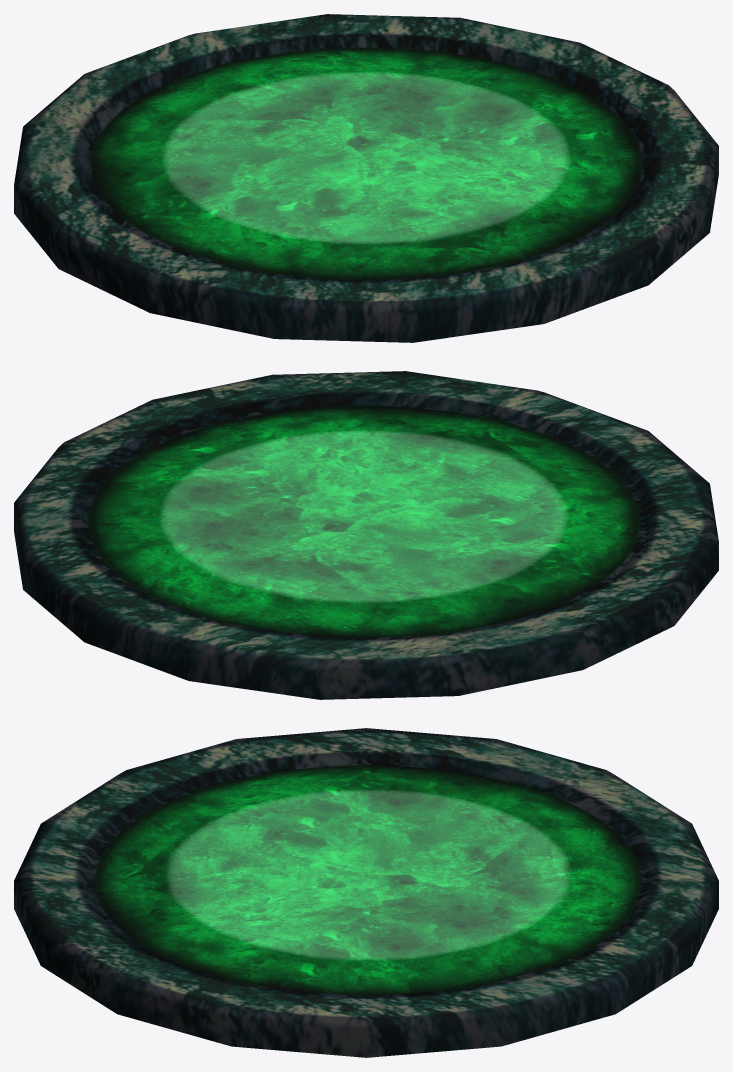
Rendered from object_mass_big_02green.fbx.
The picture shows the model from 3 angles, top to bottom: view 1: azimuth 30°, elevation 25°; view 2: azimuth 150°, elevation 25°; view 3: azimuth 270°, elevation 25°; orthographic projection.
Visible parts, largest first — view 1: pCylinder1; view 2: pCylinder1; view 3: pCylinder1.
Boxes of the visible parts, left/top/right/bottom form: pCylinder1: left=14, top=14, right=718, bottom=342; pCylinder1: left=14, top=371, right=718, bottom=699; pCylinder1: left=14, top=728, right=718, bottom=1057.
Size of the model in its own units: 2 by 0.108 by 2.
